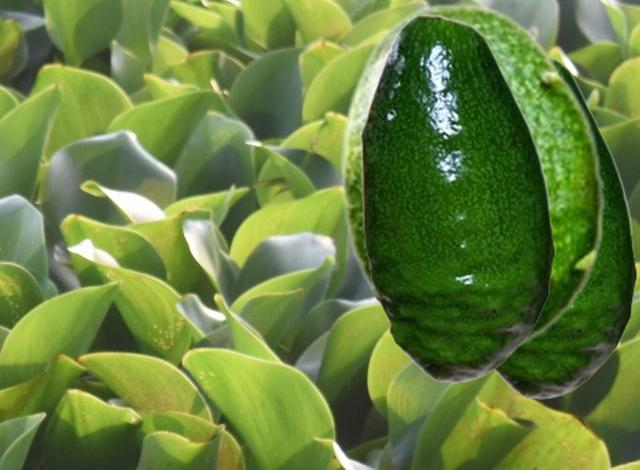avocado: (337, 2, 605, 352), (360, 13, 554, 382), (492, 54, 636, 398)
